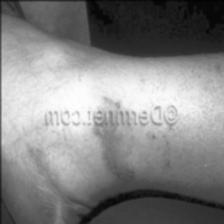Unclassified: (87, 125, 169, 179), (205, 62, 223, 76), (113, 98, 119, 106)
